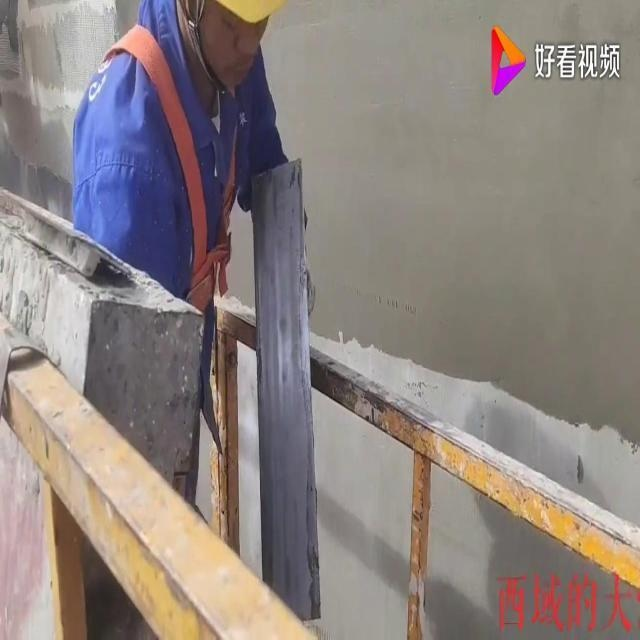Arnes_seguridad: (91, 16, 244, 312)
